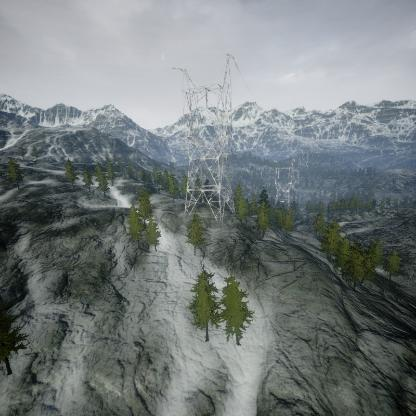tower: (169, 48, 243, 227)
